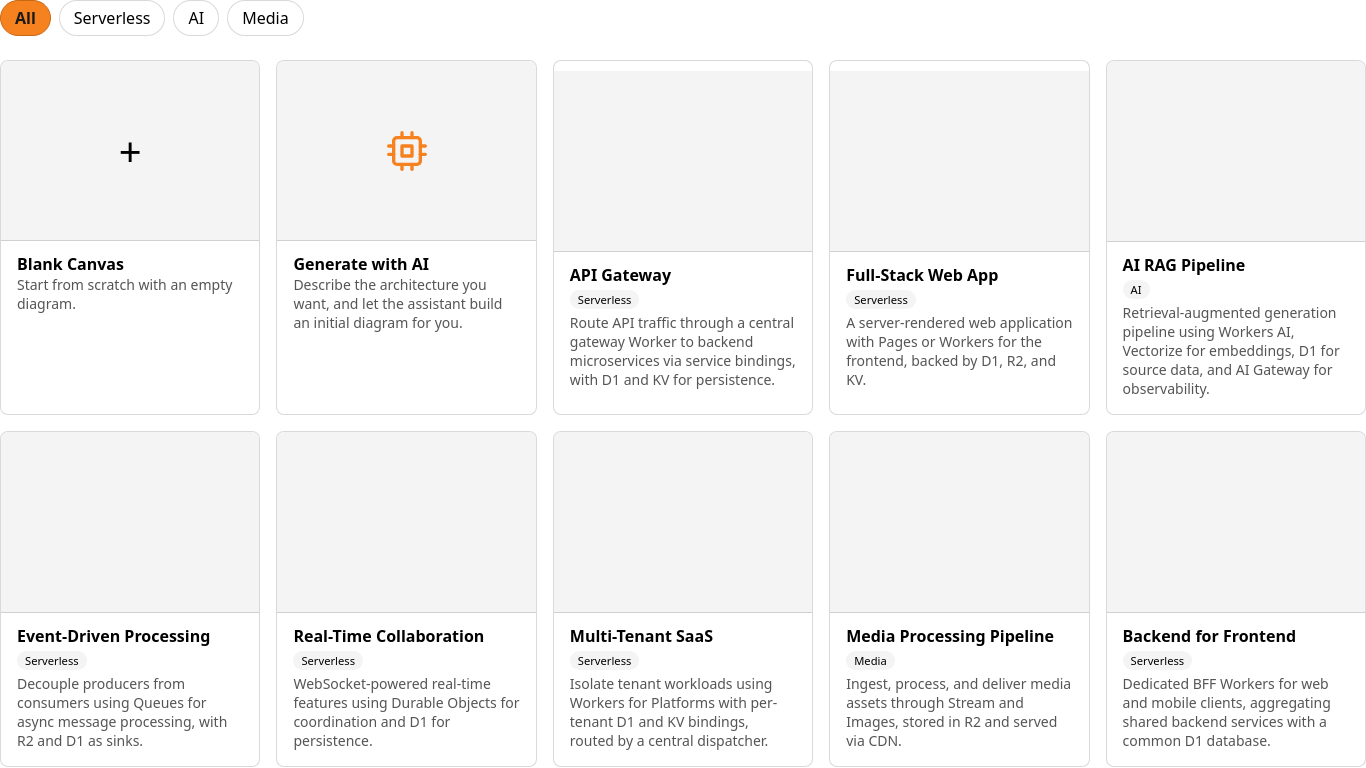
BlueprintGallery › opens the create modal pre-filled for a clicked blueprint
Click the button "API Gateway" at (683, 238), box x1=553 y1=60 x2=813 y2=415
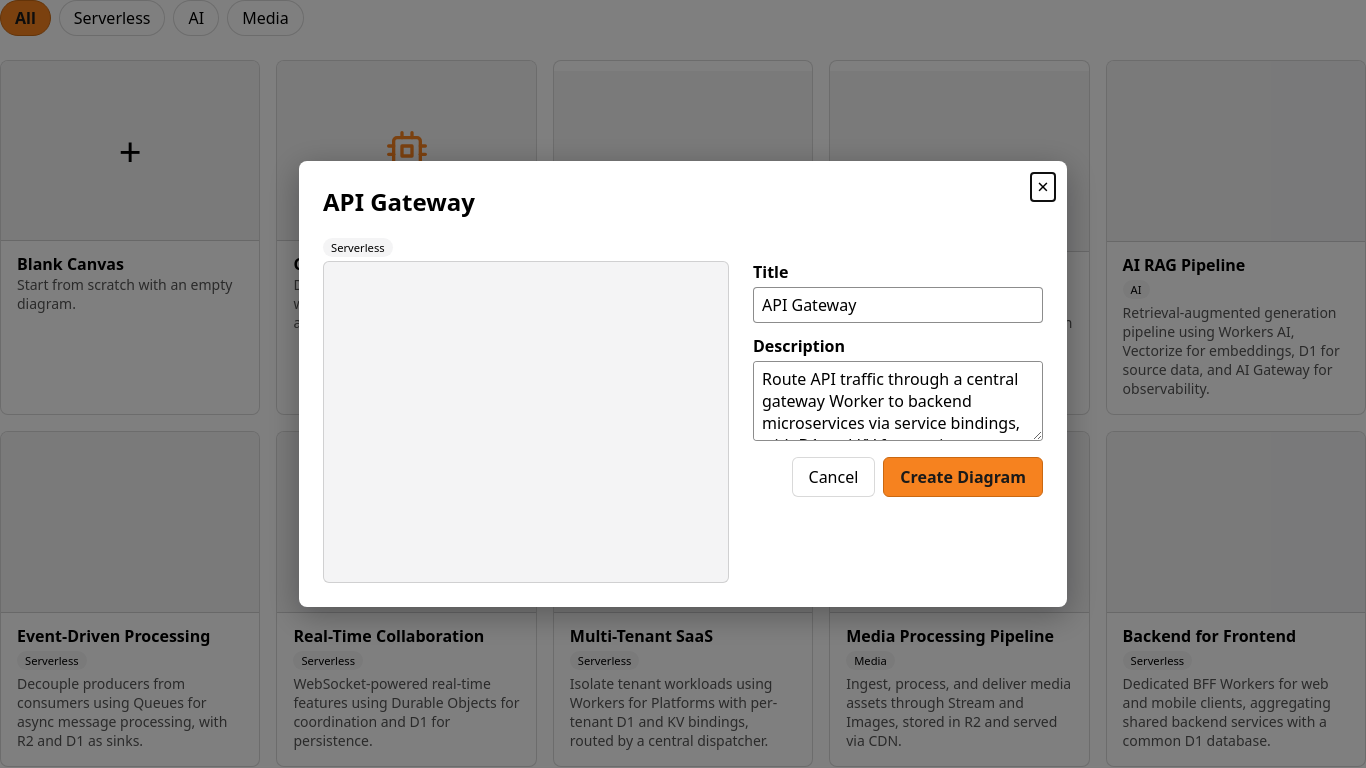
Result: the dialog "API Gateway" is shown at x1=299 y1=161 x2=1067 y2=607
